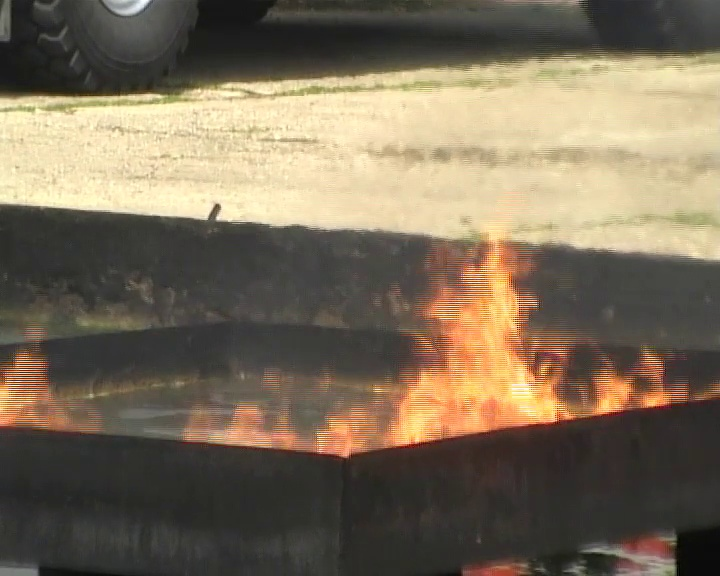fire: (393, 247, 558, 444), (4, 353, 51, 423), (596, 367, 665, 406), (313, 417, 364, 454)
